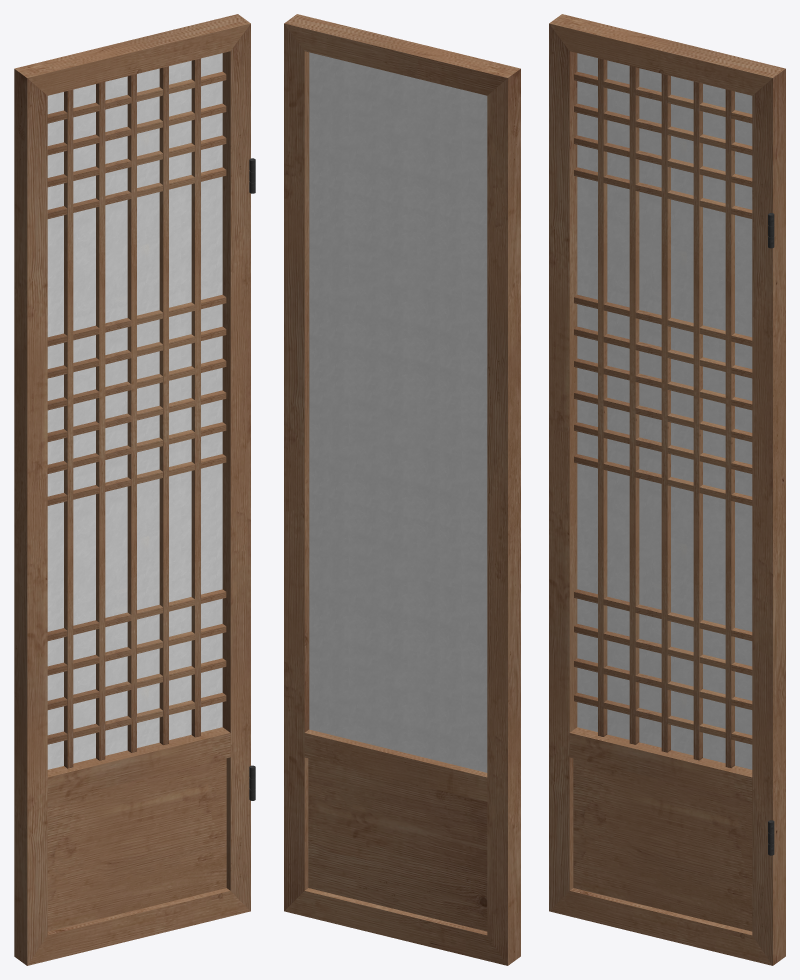
The model's file is SM_Yeonkyung_Sarangchae_Win_F_001.fbx.
3 renders of one model, left to right at view 1: azimuth 30°, elevation 25°; view 2: azimuth 150°, elevation 25°; view 3: azimuth 330°, elevation 25°, orthographic.
Visible parts, largest first — view 1: SM_Yeonkyung_Sarangchae_Win_F_001; view 2: SM_Yeonkyung_Sarangchae_Win_F_001; view 3: SM_Yeonkyung_Sarangchae_Win_F_001.
Boxes of the visible parts, x1,y1,x2,y2 form: SM_Yeonkyung_Sarangchae_Win_F_001: [14, 14, 255, 965]; SM_Yeonkyung_Sarangchae_Win_F_001: [284, 14, 520, 965]; SM_Yeonkyung_Sarangchae_Win_F_001: [549, 14, 785, 965].
Size of the model in its own units: 50.36 by 189 by 6.23.
